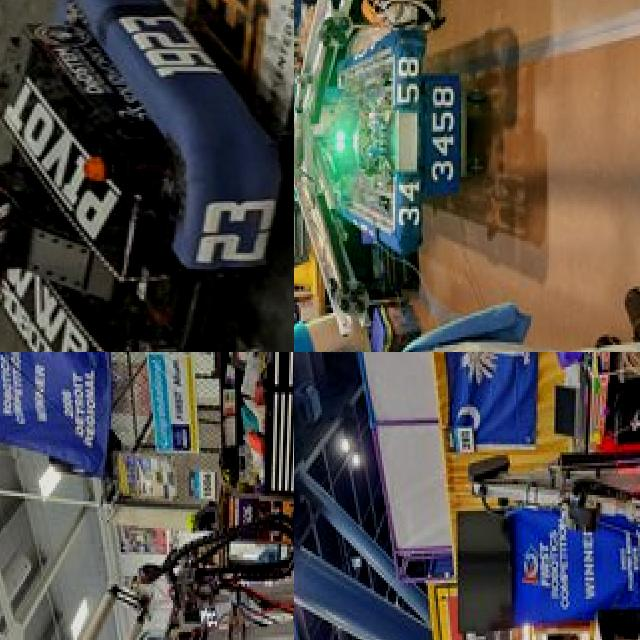FRC-Robots: (0, 8, 293, 352), (294, 0, 502, 319), (450, 352, 640, 640), (45, 475, 294, 640)
